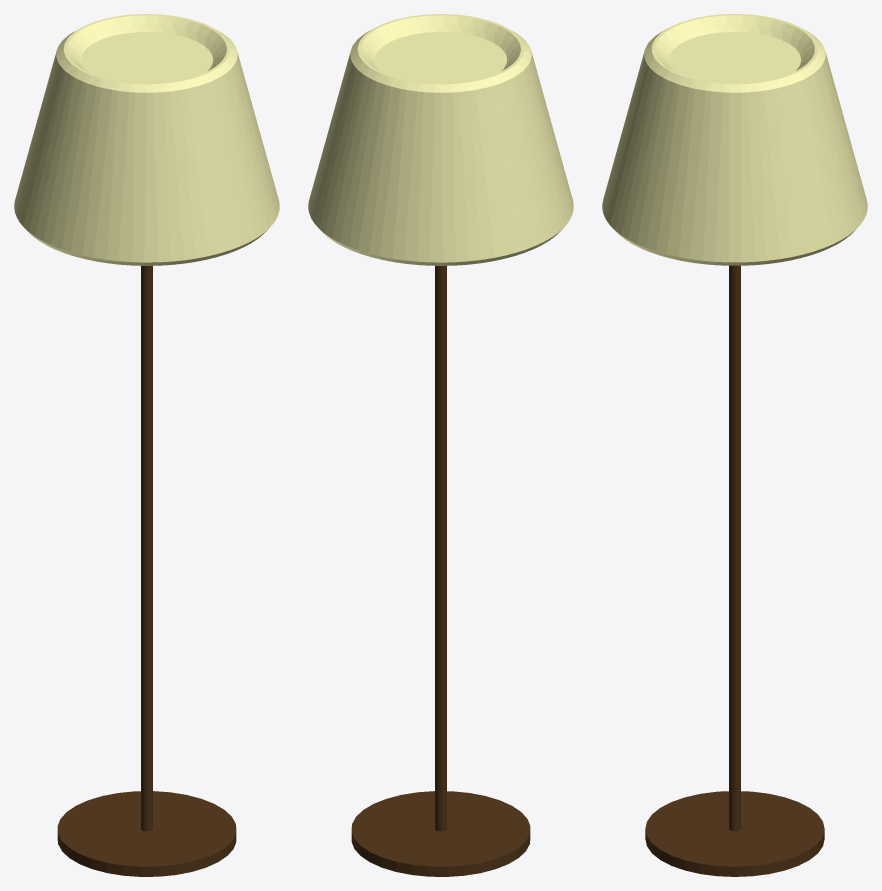
File: TallLampV1.fbx
3 renders of one model, left to right at view 1: azimuth 30°, elevation 25°; view 2: azimuth 150°, elevation 25°; view 3: azimuth 270°, elevation 25°, orthographic.
Parts seen in each view (by area): view 1: Lamp; view 2: Lamp; view 3: Lamp.
Boxes of the visible parts, x1,y1,x2,y2 form: Lamp: (14, 14, 279, 876); Lamp: (308, 14, 573, 876); Lamp: (602, 14, 867, 876).
Bounding box in the file's own units: 296 × 296 × 972.
